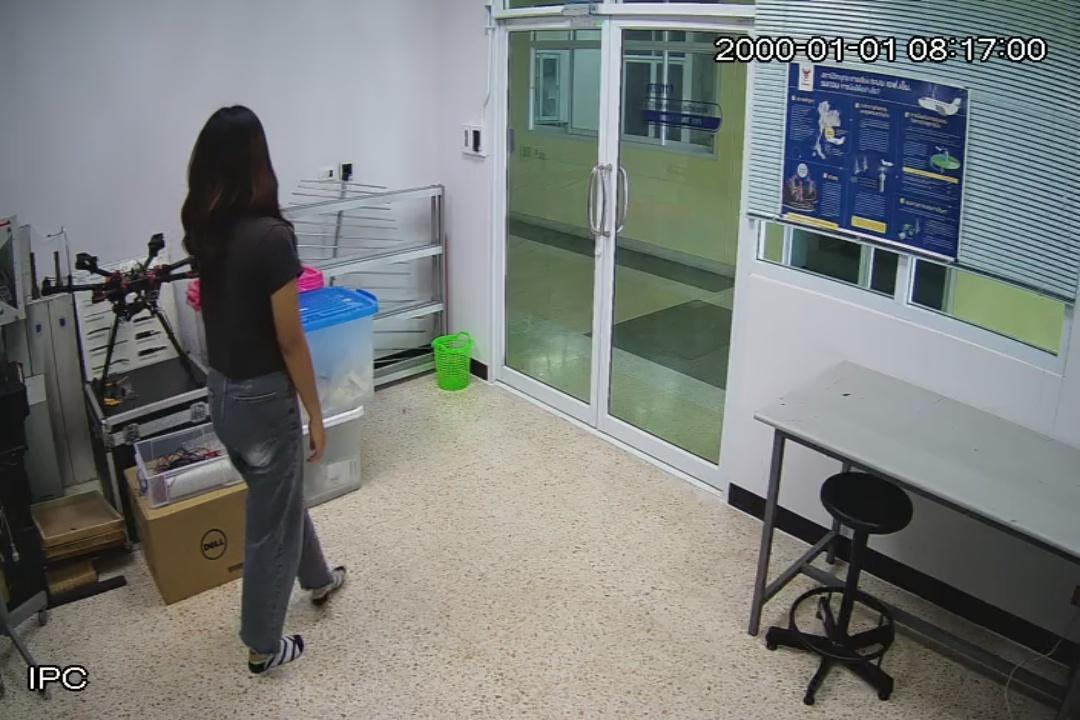normal: (184, 106, 350, 678)
